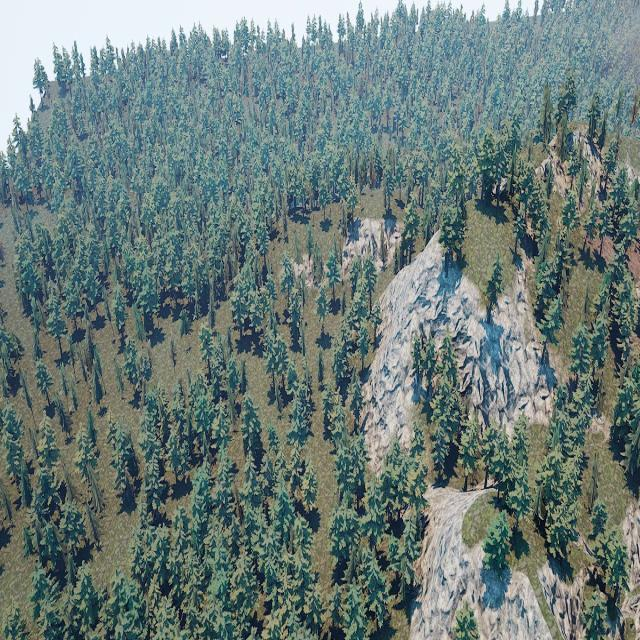smoke: (614, 0, 640, 90)
